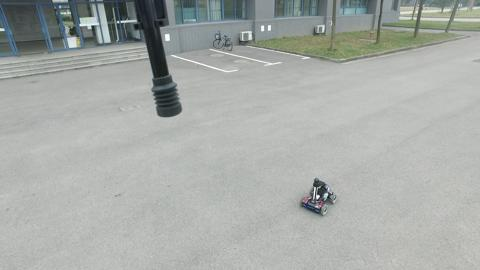chariot: (301, 177, 340, 217)
